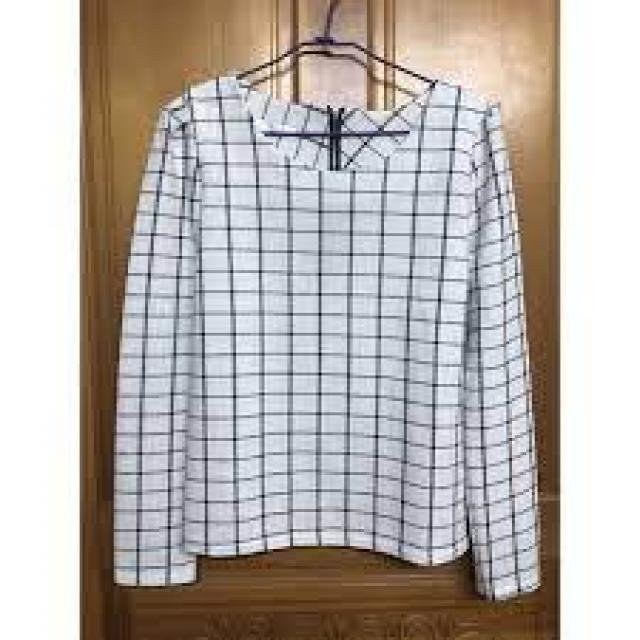plaid: (125, 71, 540, 609)
